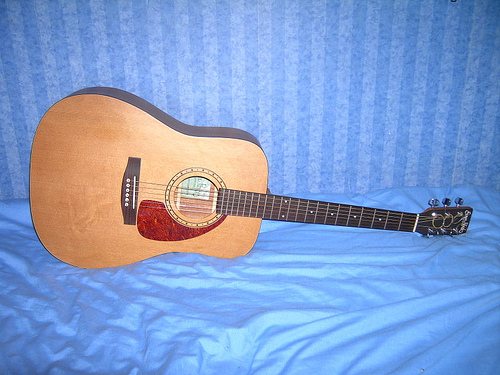guitar: (29, 86, 474, 270)
